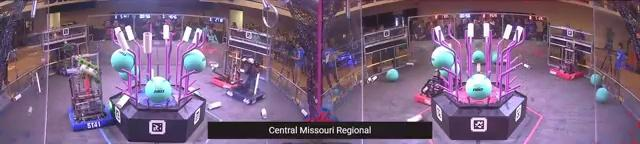reef: (109, 24, 207, 144), (430, 21, 528, 140)
robot: (64, 52, 114, 133), (225, 58, 269, 106), (211, 50, 245, 88), (550, 45, 584, 81), (414, 72, 448, 107), (56, 44, 81, 76)
